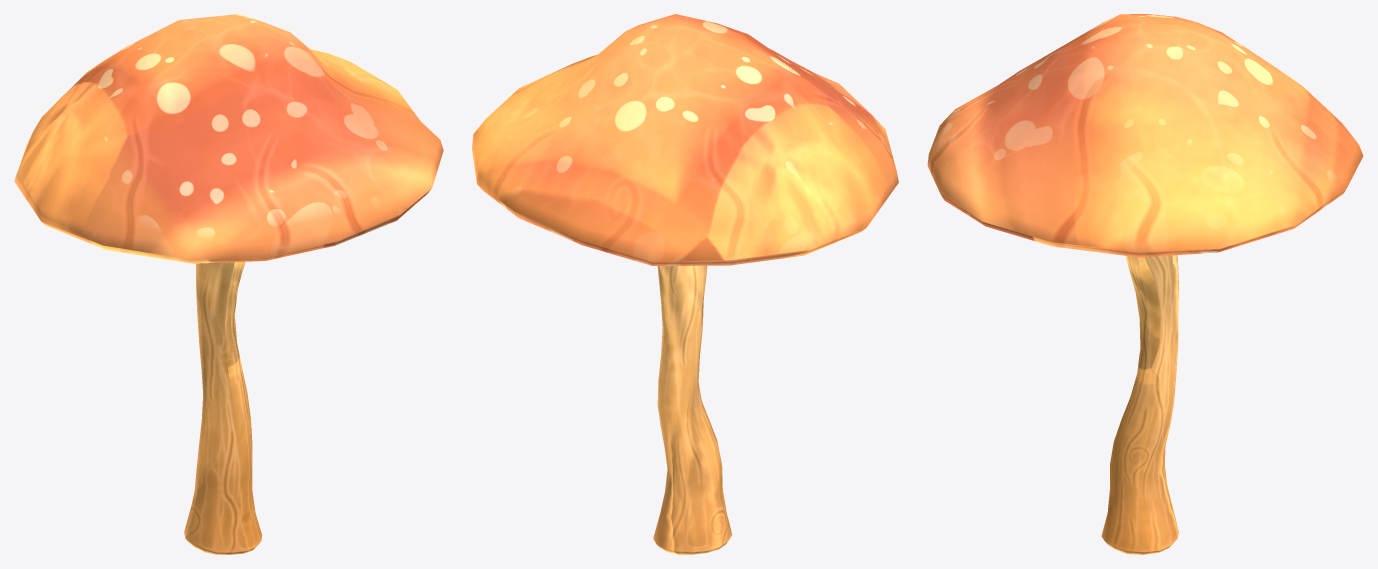
File: SM_Stylized_Big_Mushroom_01.fbx
3 views of the same model, side by side, from view 1: azimuth 30°, elevation 25°; view 2: azimuth 150°, elevation 25°; view 3: azimuth 270°, elevation 25° (orthographic).
Parts seen in each view (by area): view 1: SM_Stylized_Big_Mushroom_01_LOD0; view 2: SM_Stylized_Big_Mushroom_01_LOD0; view 3: SM_Stylized_Big_Mushroom_01_LOD0.
Boxes of the visible parts, x1,y1,x2,y2 form: SM_Stylized_Big_Mushroom_01_LOD0: (14, 14, 443, 554); SM_Stylized_Big_Mushroom_01_LOD0: (472, 14, 898, 554); SM_Stylized_Big_Mushroom_01_LOD0: (927, 14, 1363, 554).
Bounding box in the file's own units: 238 × 244 × 318.
